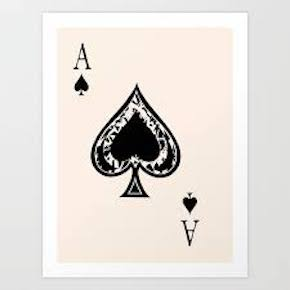AceOfSpades: (47, 19, 239, 268)
